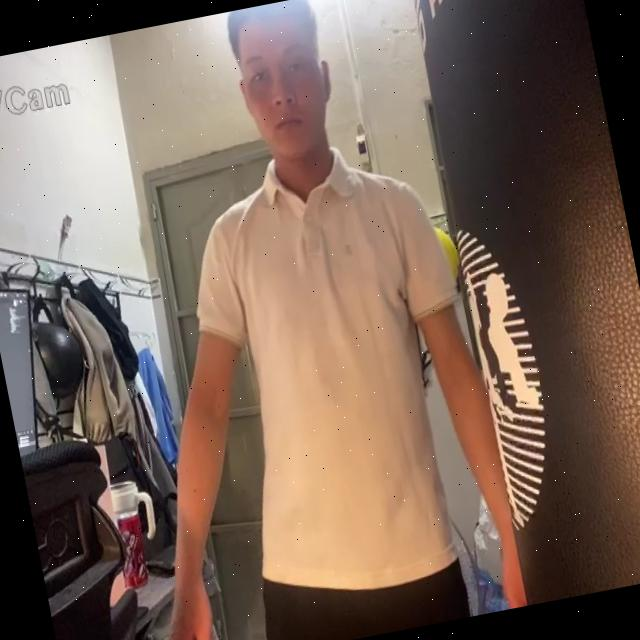T_shirt: (197, 149, 455, 589)
